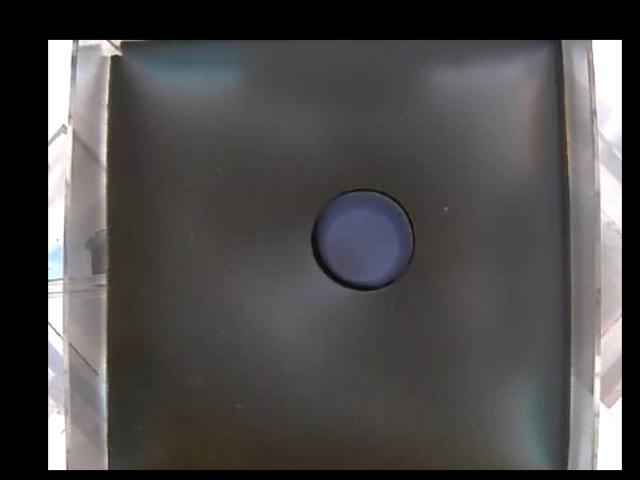Cup: (309, 187, 414, 290)
